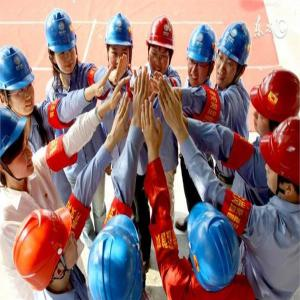blue: (186, 200, 243, 294), (88, 213, 148, 300), (2, 108, 37, 187), (2, 44, 37, 117), (216, 21, 252, 90), (46, 9, 80, 77), (187, 24, 217, 91), (106, 14, 136, 68)
red: (15, 205, 79, 292), (252, 70, 300, 135), (263, 118, 300, 202), (147, 15, 177, 76)
